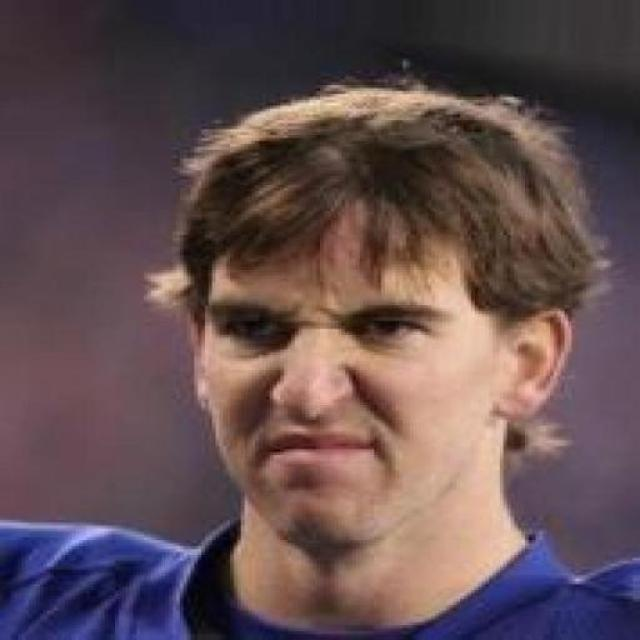bareface: (157, 86, 591, 563)
